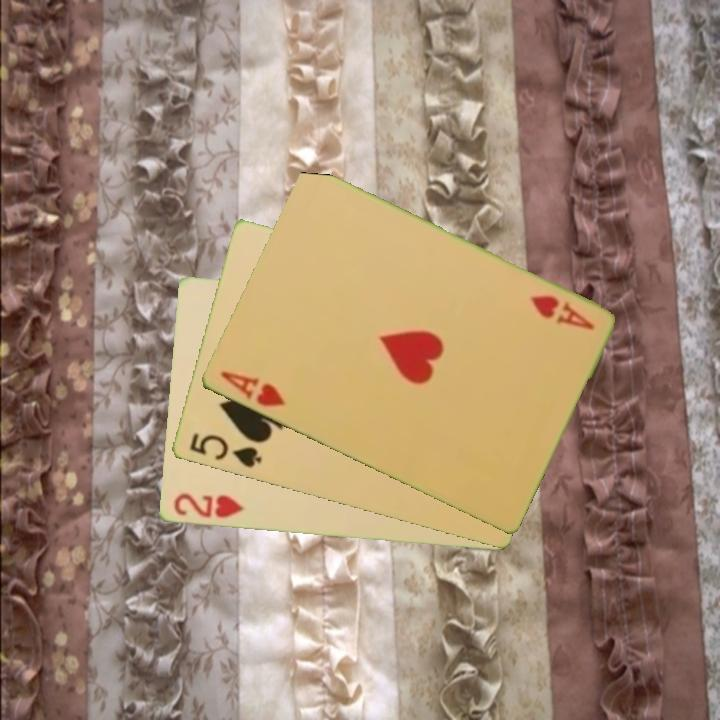2h: (170, 490, 247, 521)
5s: (185, 429, 265, 471)
Ah: (215, 367, 288, 410), (526, 291, 597, 333)
